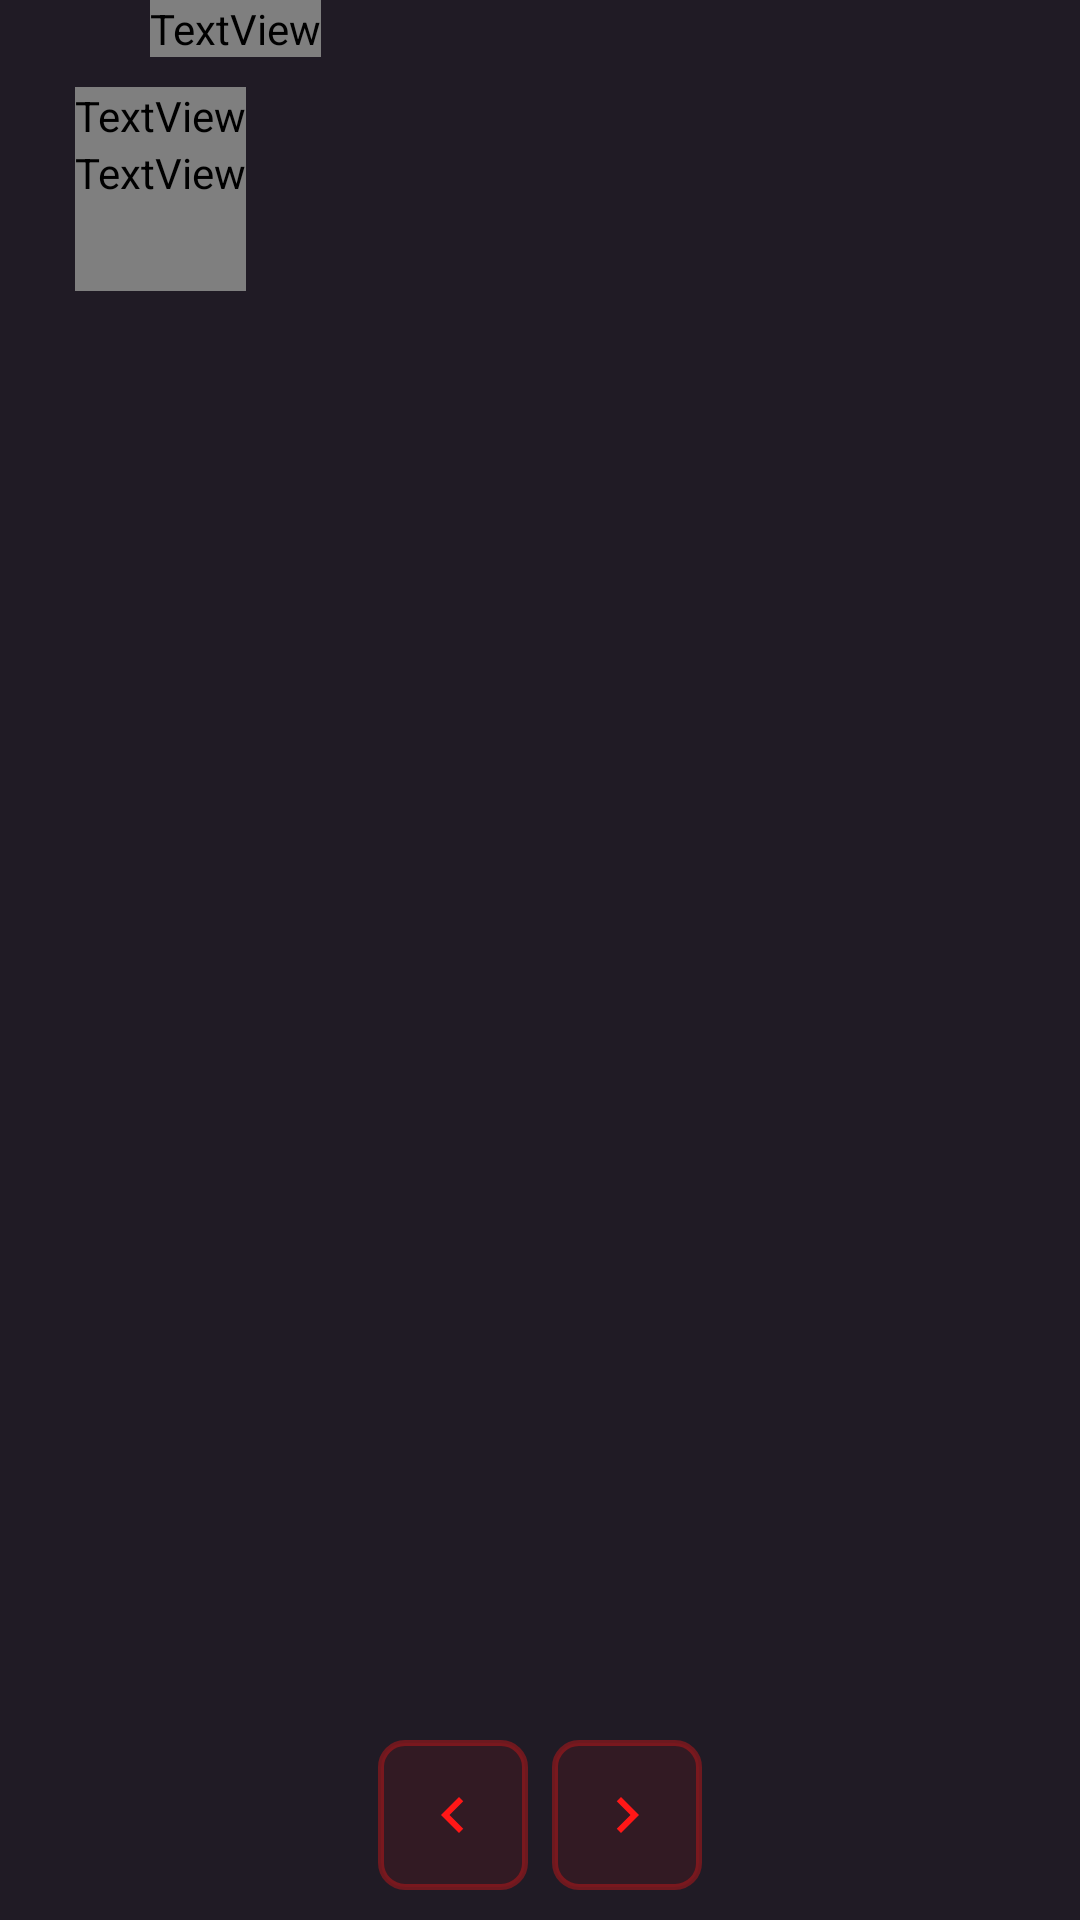

Named icons in this screenshot (1080w x 1920h) and their centers, point (x, y):
navigate before: point (453, 1815)
navigate next: point (627, 1815)
